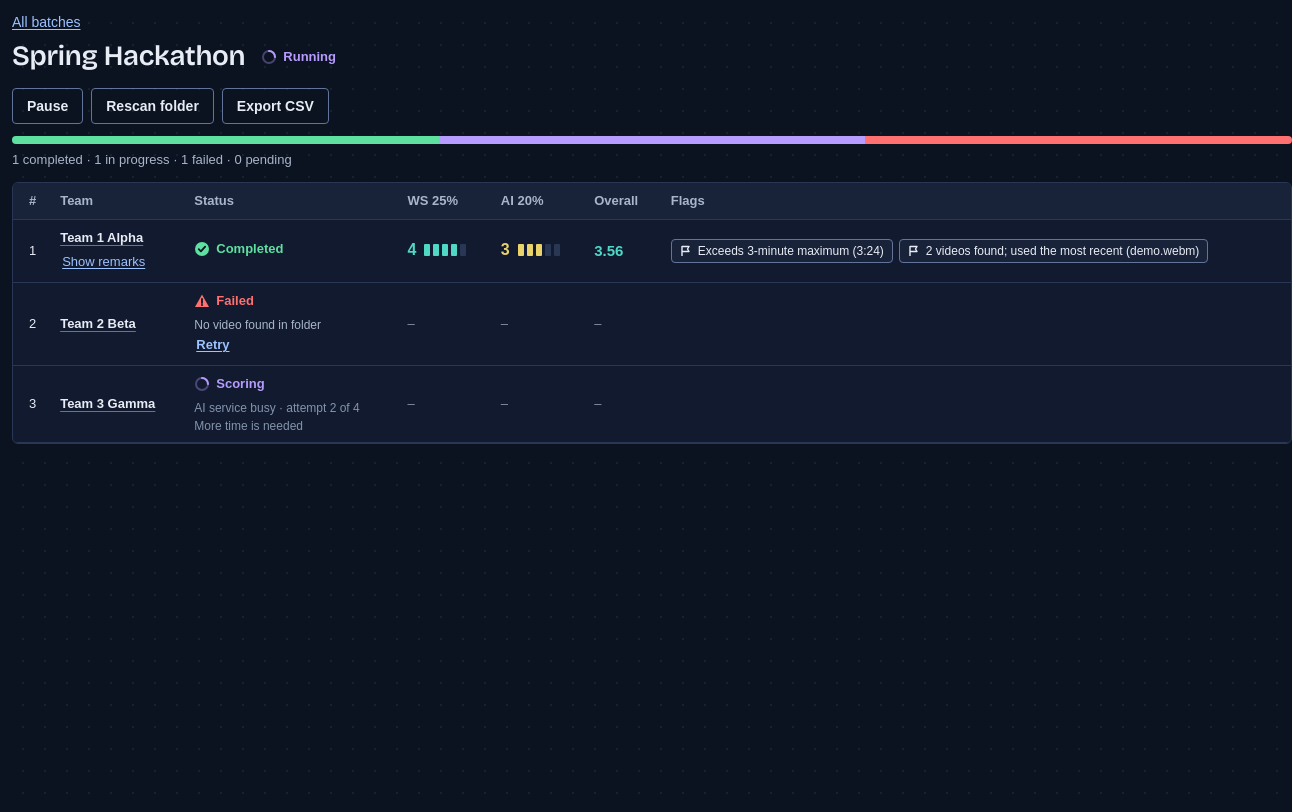
TeamTable via BatchView (TBL-01) › should_expand_remarks_for_a_completed_team
Click the button with aria-label "Show remarks for Team 1 Alpha" at point(104, 262), box [60, 250, 147, 274]
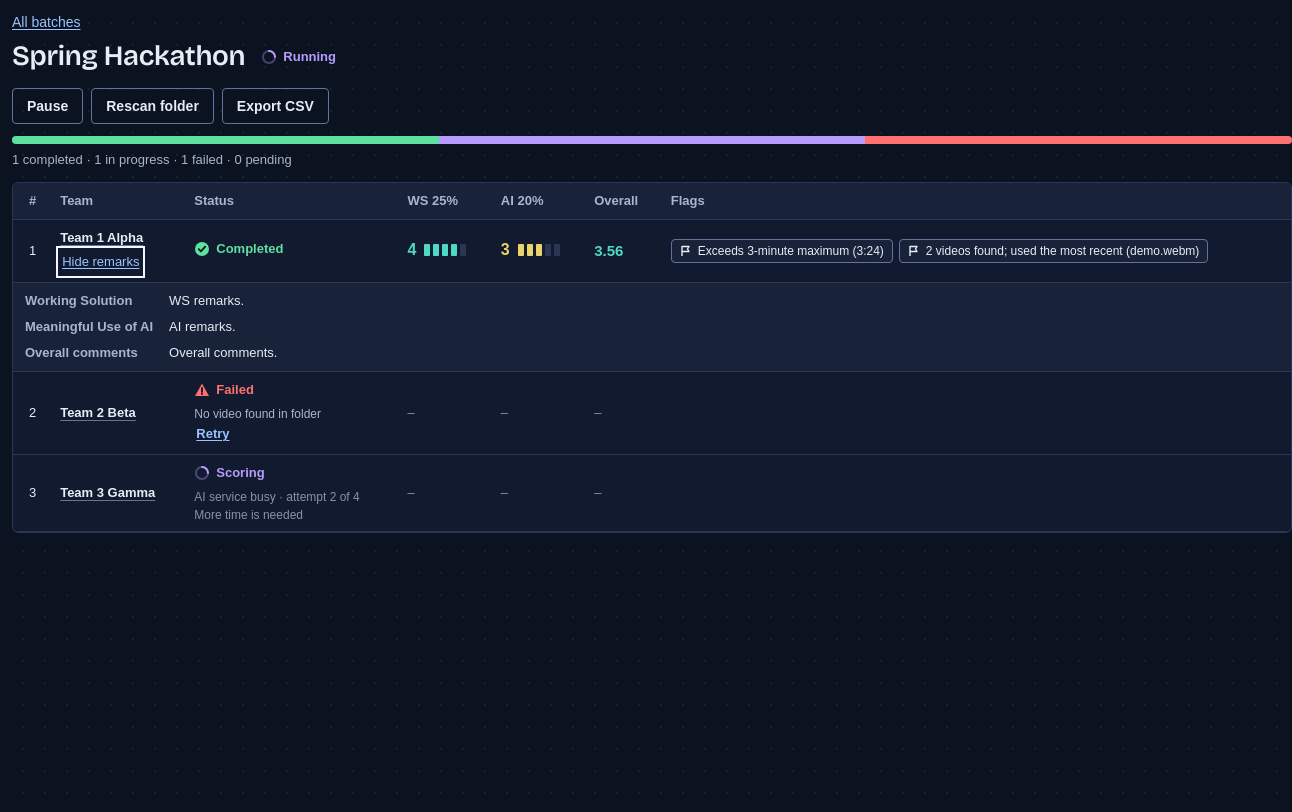
Result: the text "WS remarks." is shown at [169, 293, 244, 308]
Result: the text "Overall comments." is shown at [169, 345, 278, 360]
